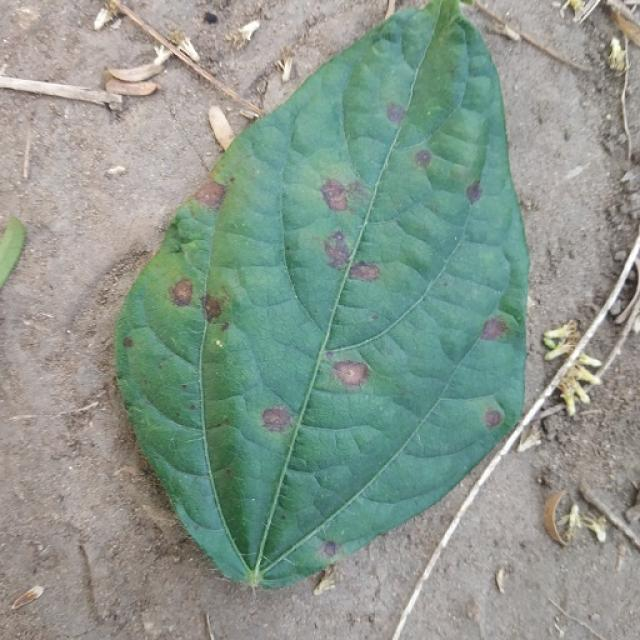Anthracnose: (321, 351, 371, 392), (321, 177, 366, 213), (193, 179, 226, 210), (260, 404, 293, 432), (323, 233, 350, 266), (170, 278, 194, 307), (480, 317, 508, 341), (348, 262, 380, 282), (202, 296, 223, 322), (386, 102, 406, 123), (466, 181, 482, 205), (483, 409, 502, 429), (414, 149, 432, 168), (321, 539, 339, 557), (122, 336, 133, 348)
Blackgram: (116, 0, 528, 586)
